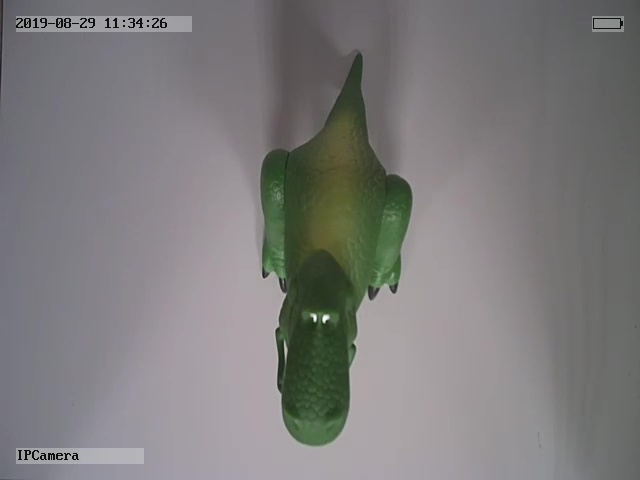rex: (256, 49, 413, 447)
